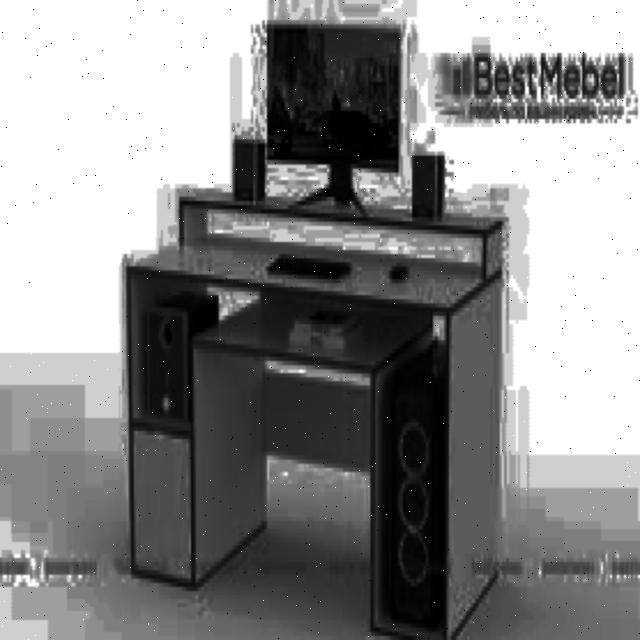table: (124, 193, 502, 640)
